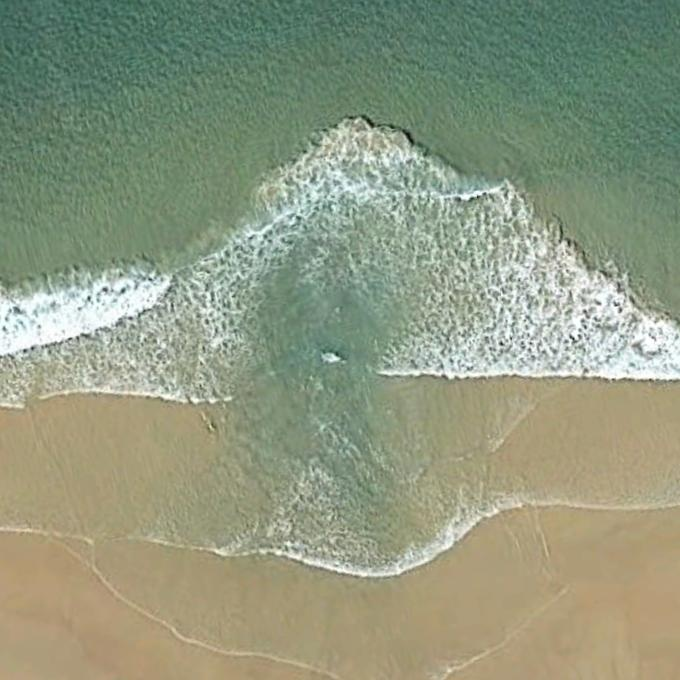rip_current: (176, 95, 517, 589)
